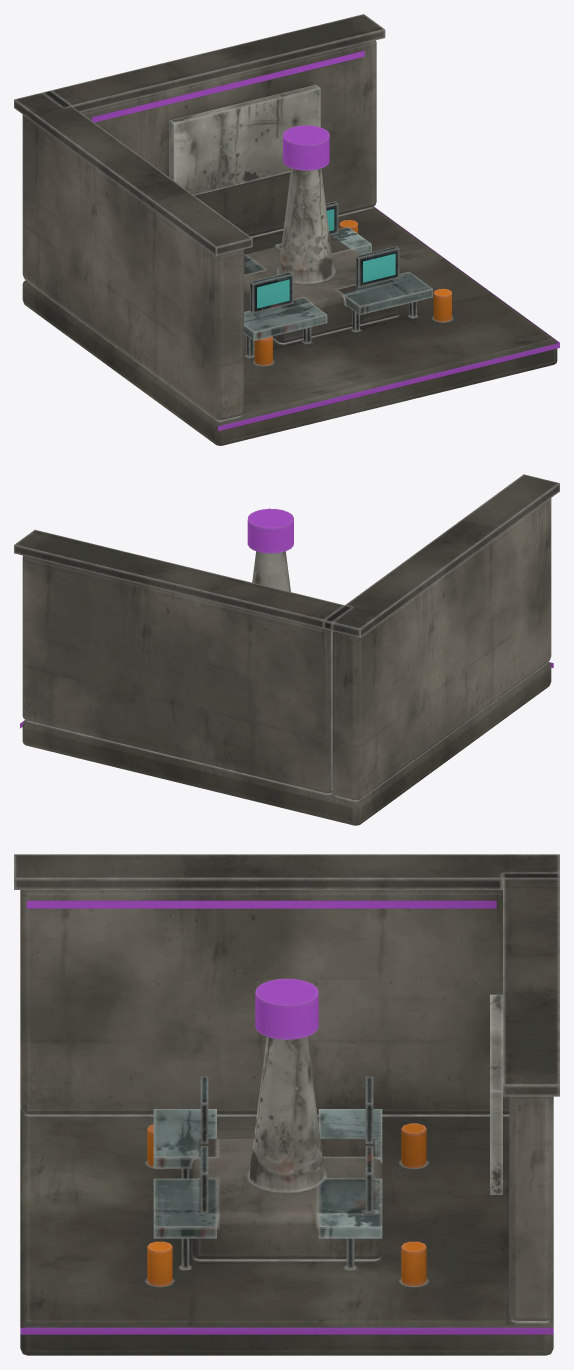
File: elite_academy.glb
The picture shows the model from 3 angles, top to bottom: view 1: azimuth 30°, elevation 25°; view 2: azimuth 150°, elevation 25°; view 3: azimuth 270°, elevation 25°; orthographic projection. The views are drawn at different scales.
Parts seen in each view (by area): view 1: te_elite_academy; view 2: te_elite_academy; view 3: te_elite_academy.
Part boxes in pixels (left/top/right/bottom): te_elite_academy: left=14, top=14, right=559, bottom=445; te_elite_academy: left=14, top=474, right=559, bottom=825; te_elite_academy: left=14, top=854, right=559, bottom=1355.
Bounding box in the file's own units: 0.86 × 0.48 × 0.86.
Materials: 1 (1 with a texture image).
